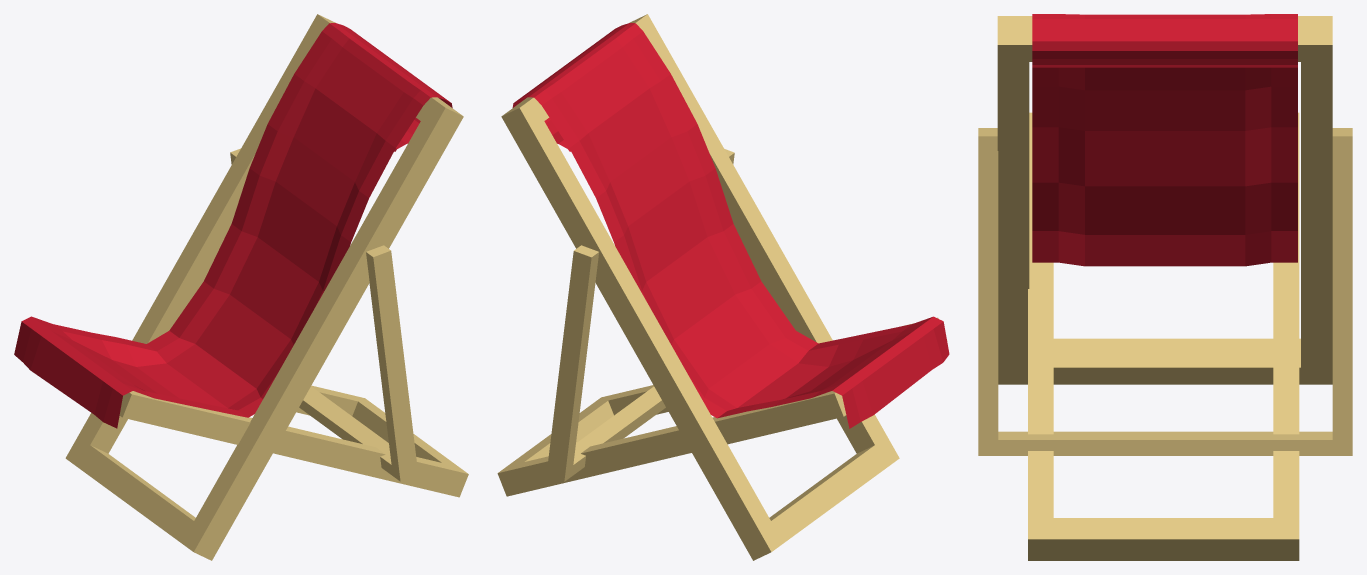
The model's file is BeachChair_1.fbx.
3 views of the same model, side by side, from view 1: azimuth 30°, elevation 25°; view 2: azimuth 150°, elevation 25°; view 3: azimuth 270°, elevation 25° (orthographic). The views are drawn at different scales.
Visible parts, largest first — view 1: Cloth, Frame, Frame.001, Frame.002; view 2: Cloth, Frame, Frame.001, Frame.002; view 3: Cloth, Frame, Frame.001, Frame.002.
Part boxes in pixels (x1,y1,x2,y2): Cloth: (14, 23, 452, 428); Frame: (65, 14, 463, 560); Frame.001: (119, 385, 468, 497); Frame.002: (230, 148, 418, 481); Cloth: (512, 23, 949, 428); Frame: (501, 14, 899, 560); Frame.001: (497, 317, 947, 496); Frame.002: (546, 149, 734, 481); Cloth: (1032, 14, 1297, 266); Frame: (997, 16, 1332, 384); Frame.001: (1028, 112, 1299, 560); Frame.002: (978, 128, 1352, 455).
Bounding box in the file's own units: 96.01 × 105 × 66.99.
